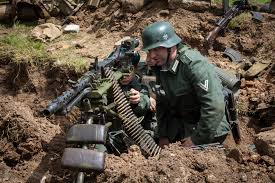gun: (40, 35, 144, 178)
